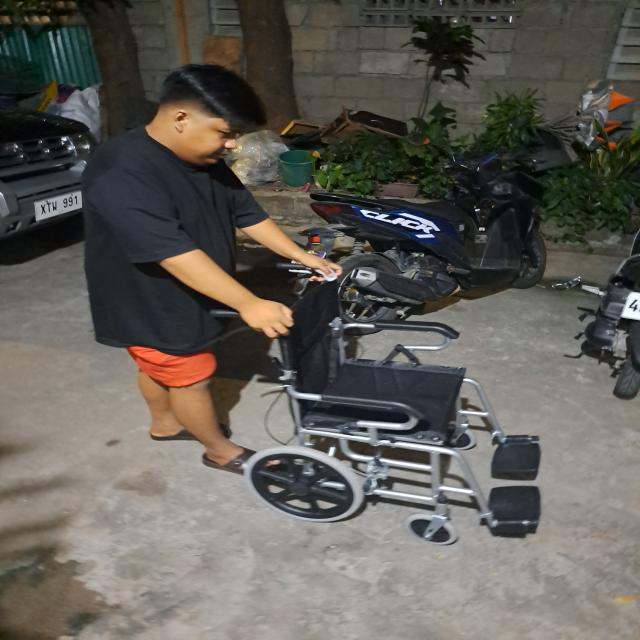wheelchairs: (212, 252, 562, 556)
